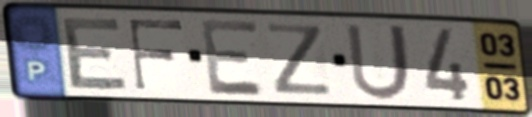4: (422, 25, 473, 103)
E: (197, 16, 269, 98), (60, 16, 132, 92)
F: (126, 17, 187, 93)
U: (343, 22, 415, 104)
Z: (263, 21, 336, 97)
